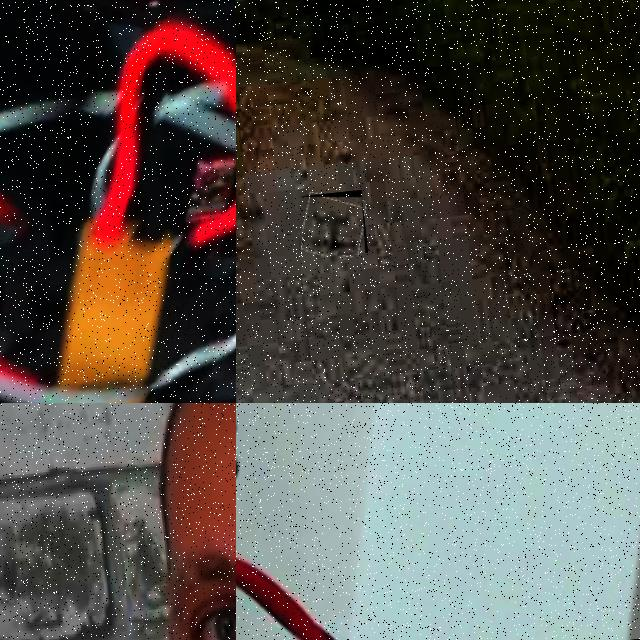drone: (236, 403, 640, 640), (0, 0, 236, 403), (298, 190, 368, 258)
